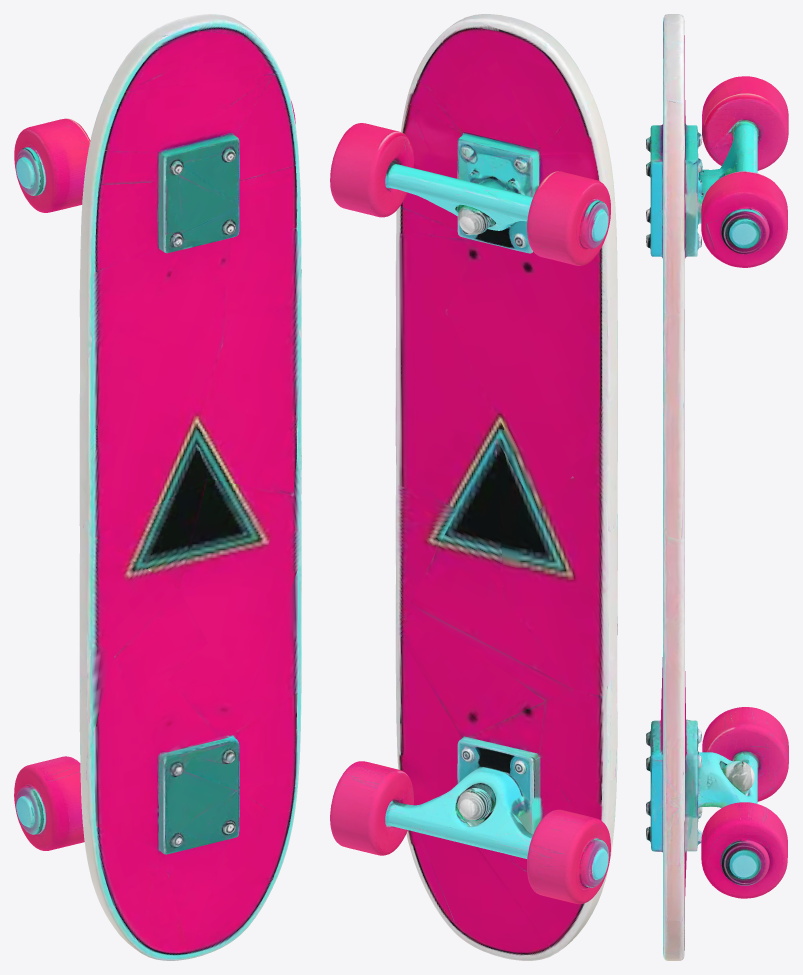
Rendered from board_magenta.glb.
The picture shows the model from 3 angles, left to right: view 1: azimuth 30°, elevation 25°; view 2: azimuth 150°, elevation 25°; view 3: azimuth 270°, elevation 25°; orthographic projection.
Visible parts, largest first — view 1: Mesh_0; view 2: Mesh_0; view 3: Mesh_0.
Boxes of the visible parts, <box> form: Mesh_0: <box>14,14,301,960</box>; Mesh_0: <box>330,14,617,960</box>; Mesh_0: <box>646,14,788,960</box>.
Bounding box in the file's own units: 0.5573 × 1.9 × 0.2661.
1 material, 1 textured.
